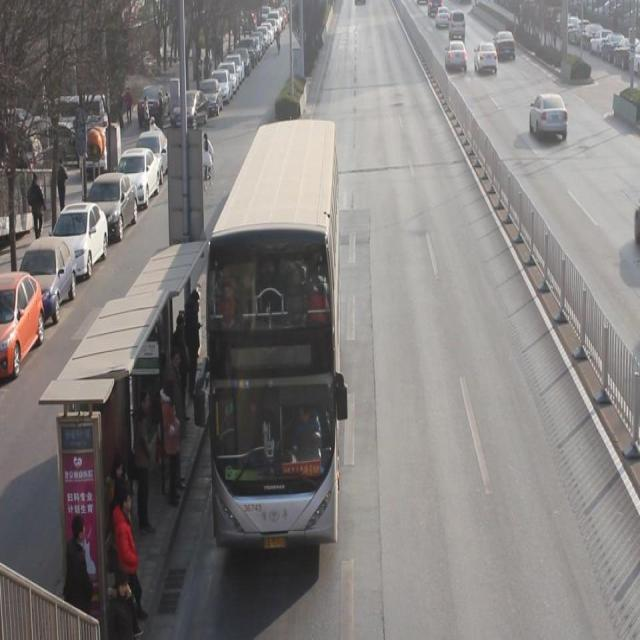car: (530, 93, 570, 144), (473, 42, 499, 78), (445, 42, 469, 77), (493, 32, 517, 64), (435, 8, 451, 31)
truck: (448, 11, 466, 42)
van: (205, 131, 338, 552)
